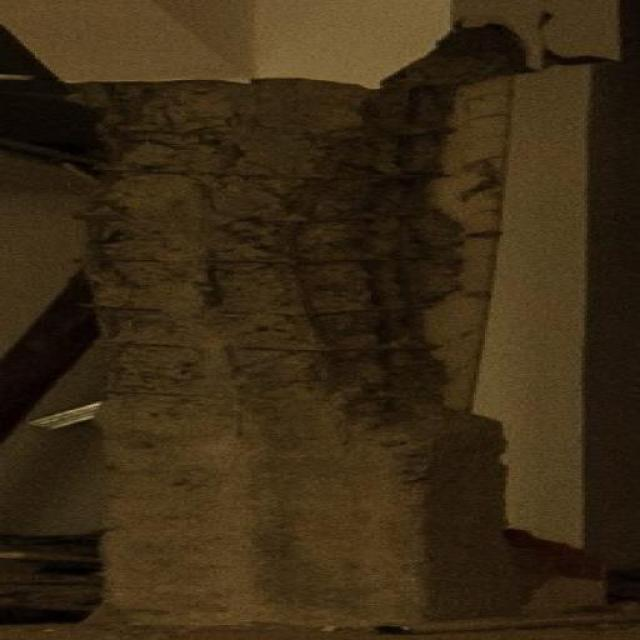D0w0: (84, 80, 450, 420)
